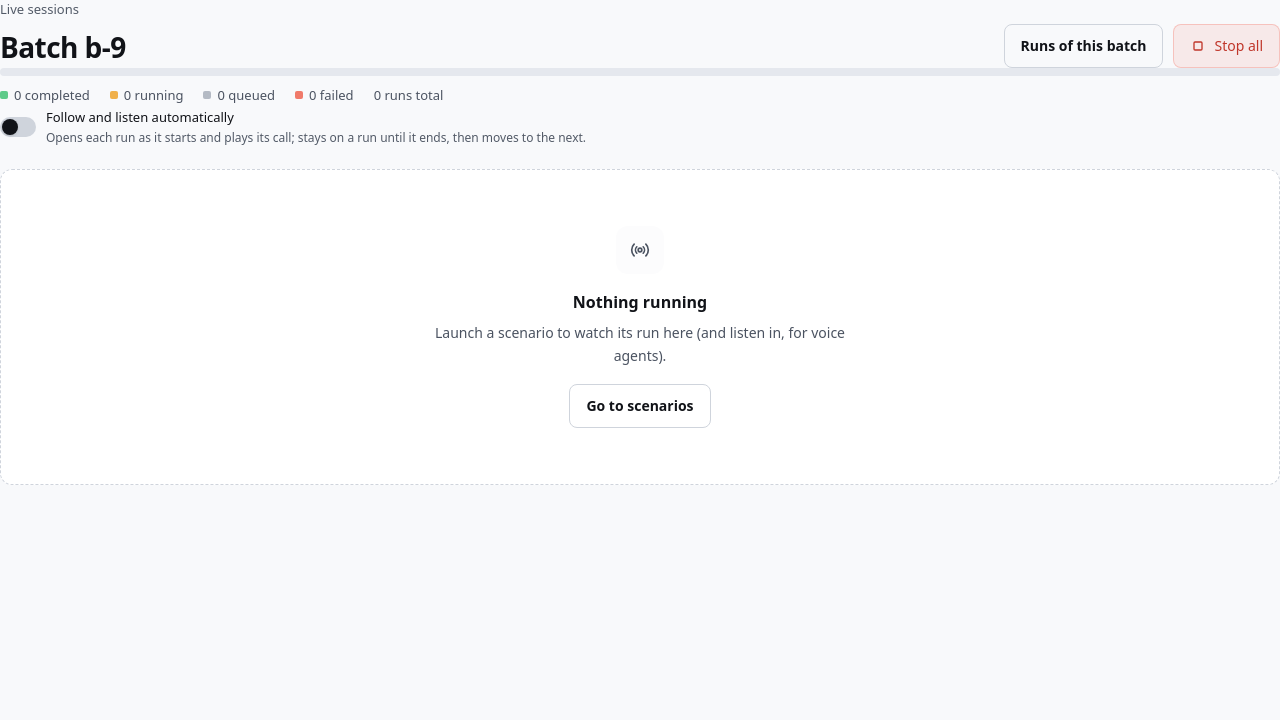
Test: Live sessions › keeps the batch running when the stop is not confirmed
This screenshot has width=1280, height=720.
Step 1. Click the button "Stop all" → (1227, 46), box [1174,24,1279,68]
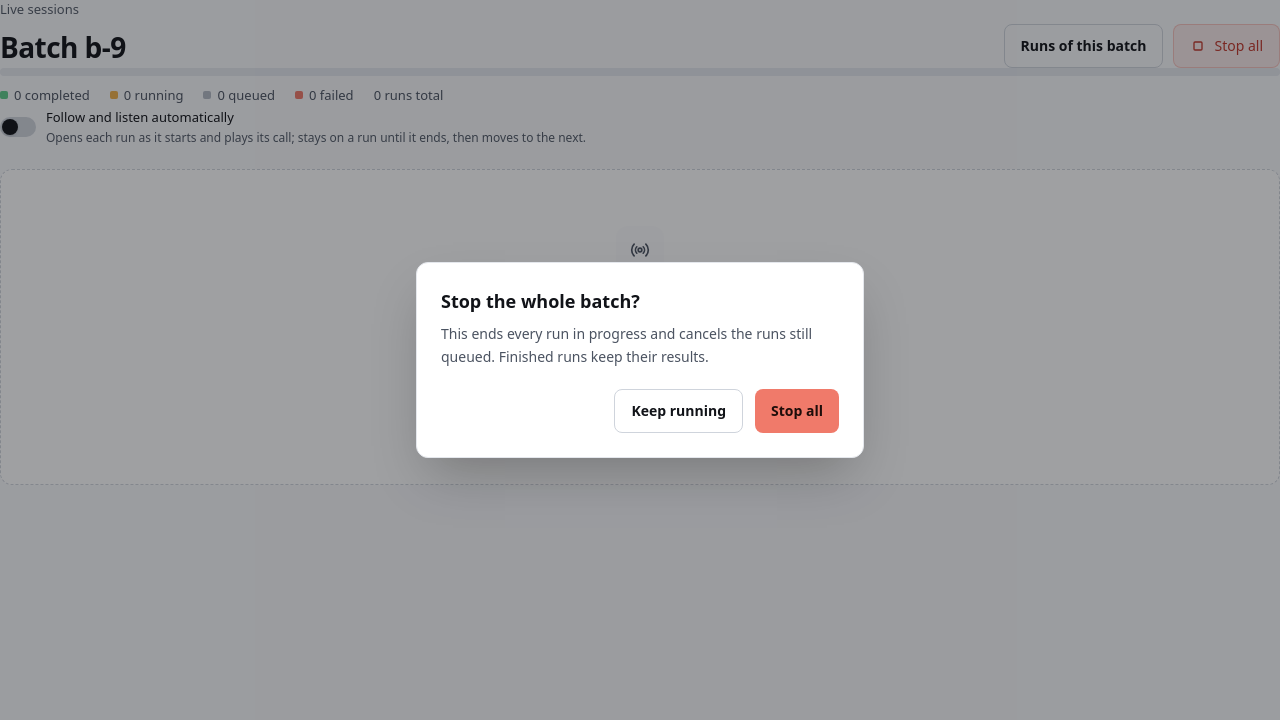
Step 2. Click the button "Keep running" → (679, 411), box [614,389,743,433]
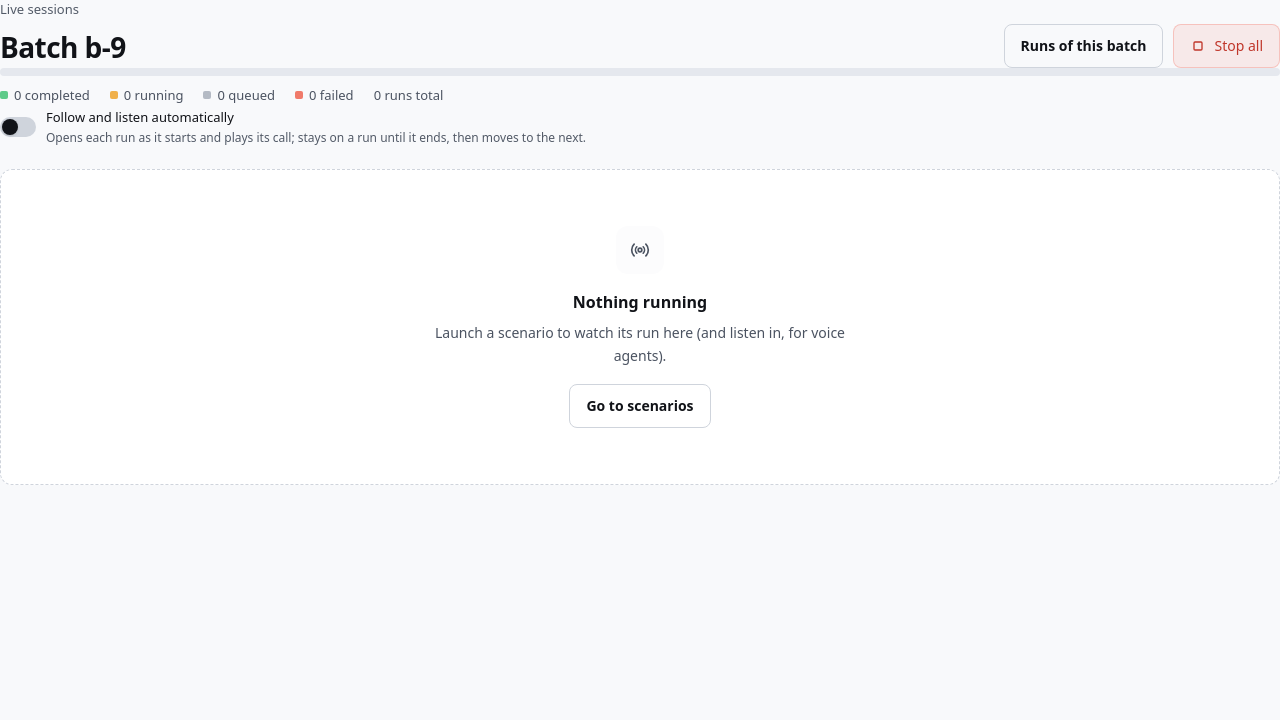
Result: the dialog is gone
